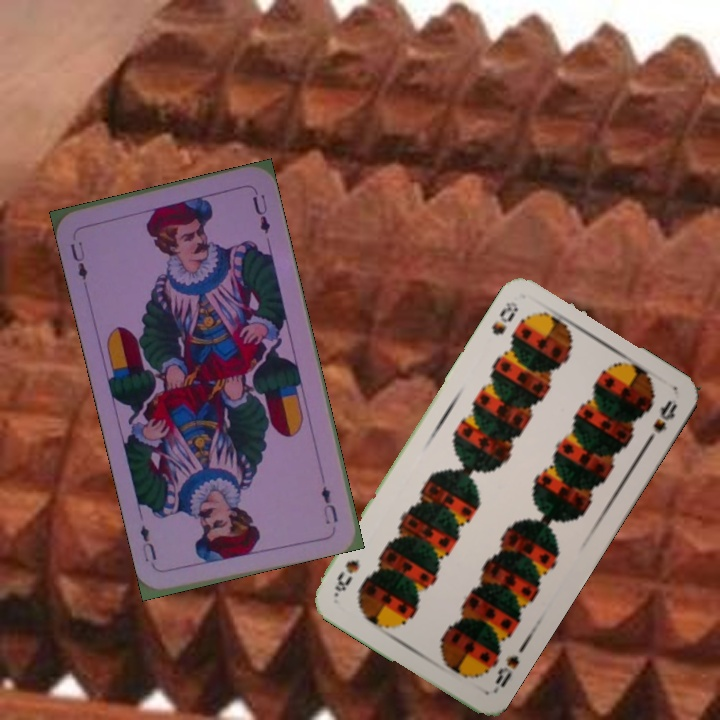EU: (66, 237, 91, 283), (317, 482, 341, 528)
S8: (489, 651, 522, 696), (487, 297, 522, 338)
